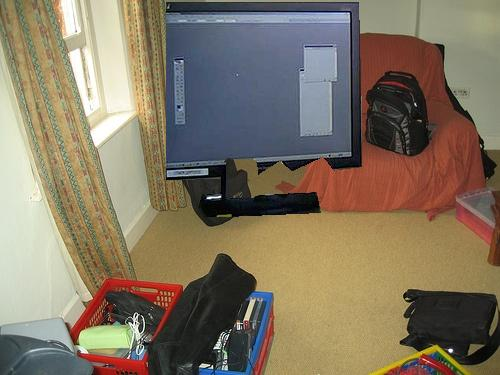tampered: (167, 3, 362, 217)
